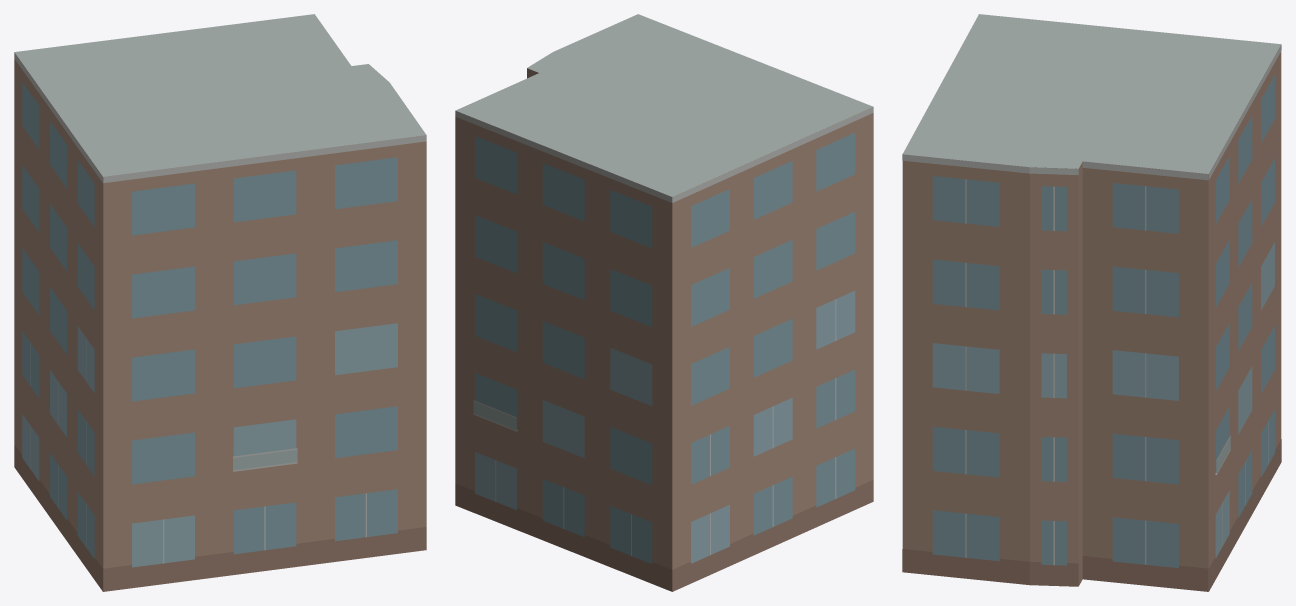
Rendered from survey-upis-32539290.glb.
The picture shows the model from 3 angles, left to right: view 1: azimuth 30°, elevation 25°; view 2: azimuth 150°, elevation 25°; view 3: azimuth 270°, elevation 25°; orthographic projection. The views are drawn at different scales.
Parts seen in each view (by area): view 1: survey-upis-32539290.tmp; view 2: survey-upis-32539290.tmp; view 3: survey-upis-32539290.tmp.
Boxes of the visible parts, bbox=[...] form: survey-upis-32539290.tmp: bbox=[14, 14, 426, 591]; survey-upis-32539290.tmp: bbox=[455, 14, 873, 591]; survey-upis-32539290.tmp: bbox=[902, 14, 1281, 591].
Size of the model in its own units: 13.19 by 16.05 by 13.2.
